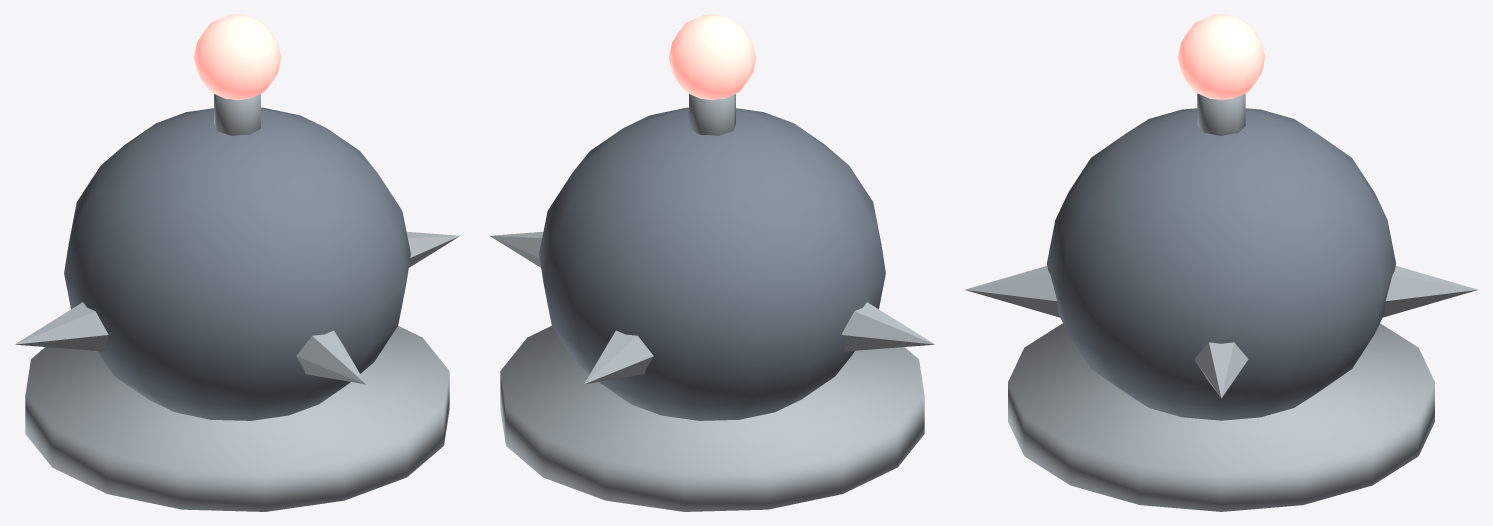
The model's file is item-mine.glb.
The picture shows the model from 3 angles, left to right: view 1: azimuth 30°, elevation 25°; view 2: azimuth 150°, elevation 25°; view 3: azimuth 270°, elevation 25°; orthographic projection.
Visible parts, largest first — view 1: mesh_item_mine_body, mesh_item_mine_metal, mesh_item_mine_lamp; view 2: mesh_item_mine_body, mesh_item_mine_metal, mesh_item_mine_lamp; view 3: mesh_item_mine_body, mesh_item_mine_metal, mesh_item_mine_lamp.
Part boxes in pixels (left/top/right/bottom): mesh_item_mine_body: left=64, top=107, right=410, bottom=420; mesh_item_mine_metal: left=15, top=94, right=460, bottom=511; mesh_item_mine_lamp: left=193, top=14, right=281, bottom=100; mesh_item_mine_body: left=539, top=107, right=885, bottom=420; mesh_item_mine_metal: left=489, top=94, right=934, bottom=511; mesh_item_mine_lamp: left=668, top=14, right=756, bottom=100; mesh_item_mine_body: left=1047, top=108, right=1395, bottom=420; mesh_item_mine_metal: left=964, top=93, right=1478, bottom=511; mesh_item_mine_lamp: left=1178, top=14, right=1264, bottom=99.
Bounding box in the file's own units: 0.53 × 0.459 × 0.53.
